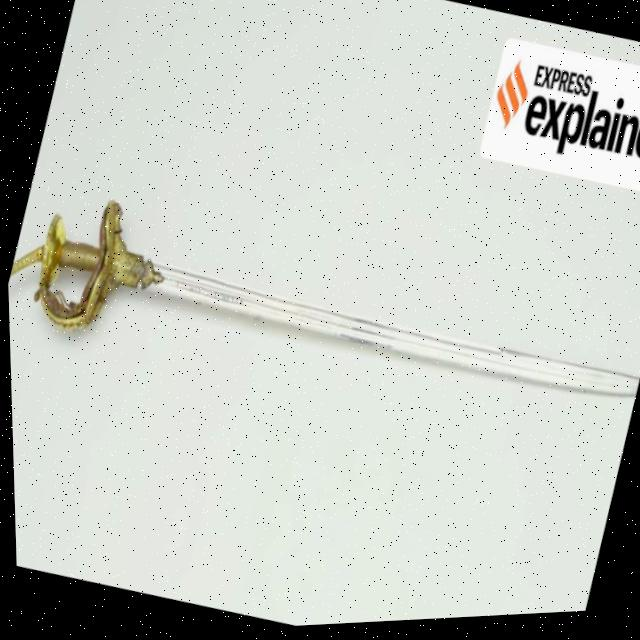knife: (4, 159, 640, 497)
